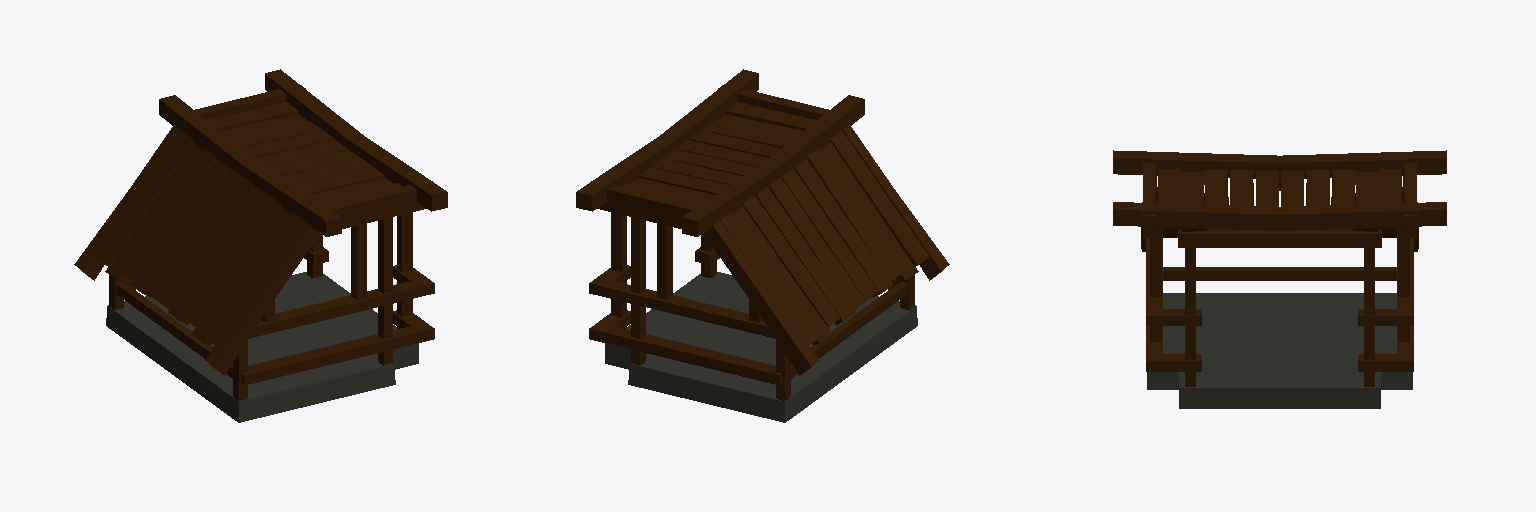
The model's file is Shack.obj.
3 views of the same model, side by side, from view 1: azimuth 30°, elevation 25°; view 2: azimuth 150°, elevation 25°; view 3: azimuth 270°, elevation 25° (orthographic).
Visible parts, largest first — view 1: obj2, obj1; view 2: obj2, obj1; view 3: obj2, obj1.
Boxes of the visible parts, <box> form: obj2: <box>74,69,447,400</box>; obj1: <box>106,272,418,422</box>; obj2: <box>576,69,949,400</box>; obj1: <box>605,272,917,422</box>; obj2: <box>1113,150,1446,386</box>; obj1: <box>1147,293,1412,408</box>.
Size of the model in its own units: 0.9108 by 0.7685 by 1.17.